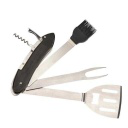fork: (8, 16, 128, 125)
